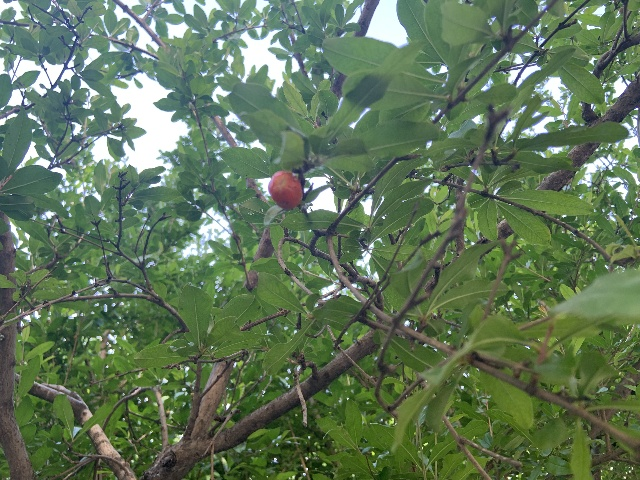bud: (268, 170, 302, 209)
